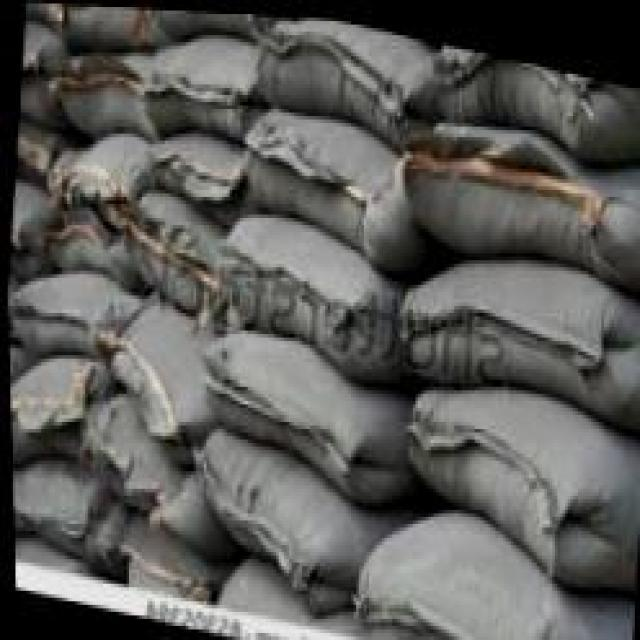gunny_bag: (402, 376, 640, 589), (395, 248, 640, 429), (400, 113, 640, 286), (350, 501, 632, 640), (198, 325, 398, 507), (190, 422, 357, 618), (217, 207, 394, 387), (243, 98, 401, 271), (426, 38, 640, 160), (252, 12, 426, 151), (76, 393, 194, 552), (98, 312, 200, 470), (120, 185, 217, 325), (138, 33, 259, 144), (130, 128, 245, 231), (41, 140, 138, 229), (10, 468, 93, 571), (103, 521, 214, 598), (52, 47, 146, 137), (6, 278, 110, 356), (8, 371, 88, 463), (54, 3, 145, 52), (19, 26, 56, 113), (8, 194, 42, 288), (149, 7, 255, 33), (14, 115, 50, 184), (25, 1, 57, 23)
